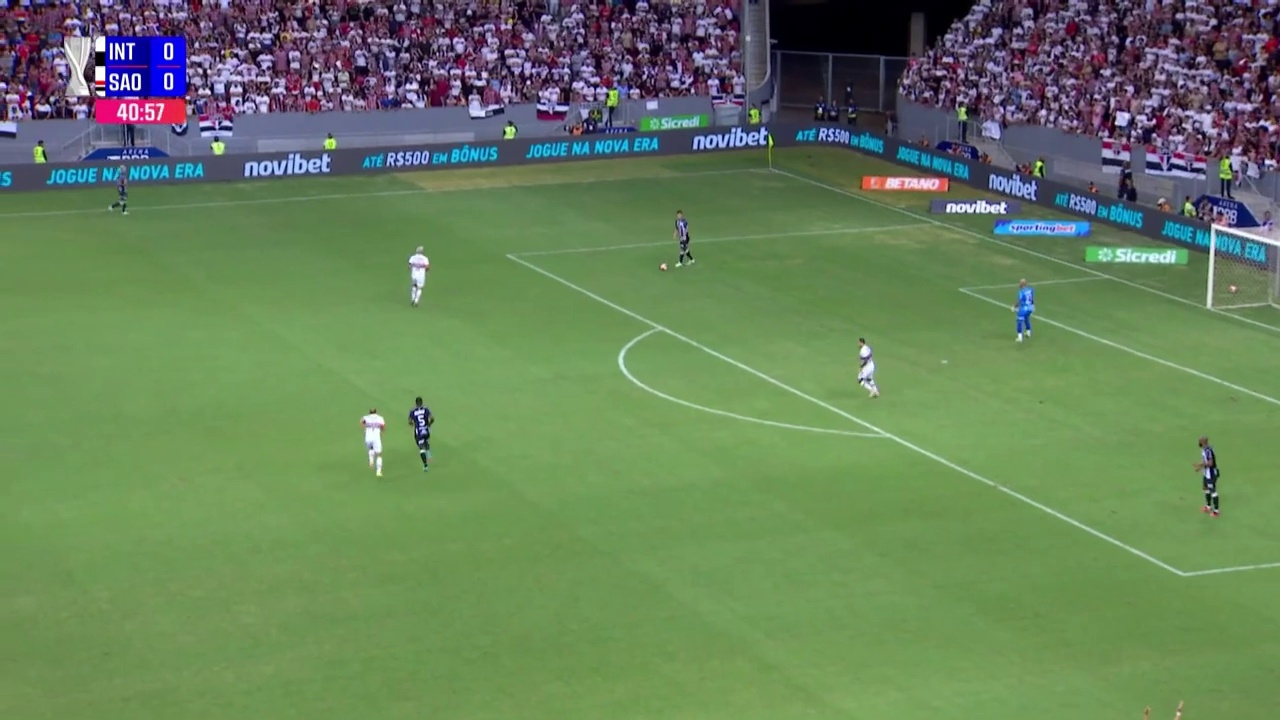ball: (609, 217, 625, 232)
